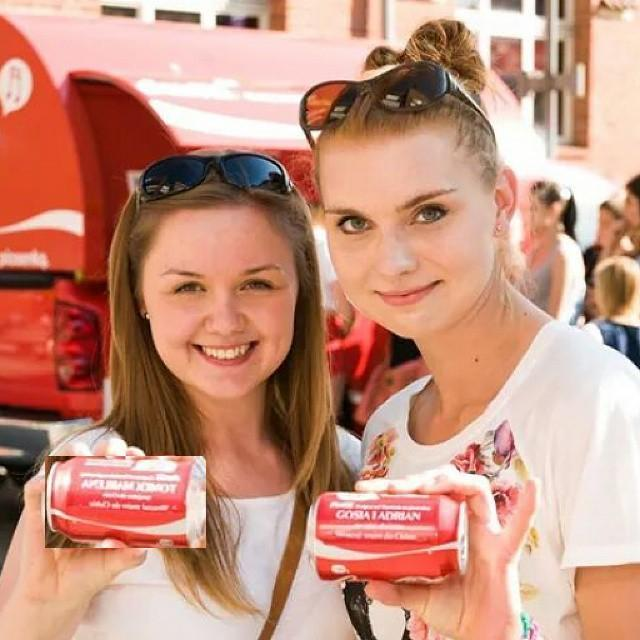coca-cola: (308, 488, 470, 584), (45, 456, 206, 548)
